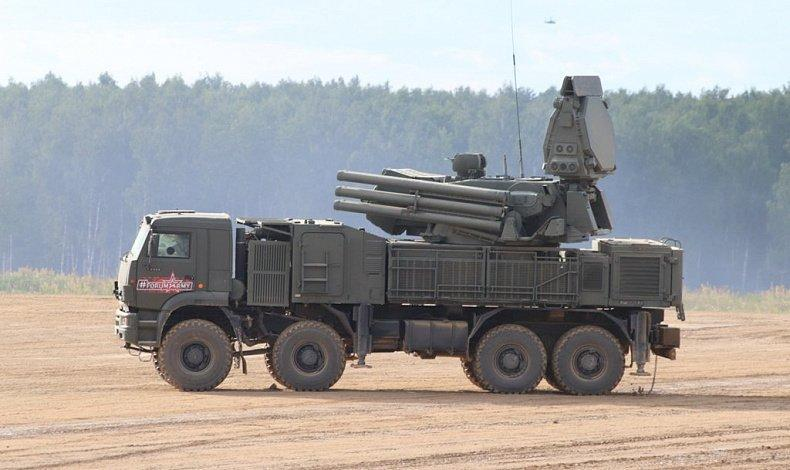truck: (104, 200, 692, 418)
